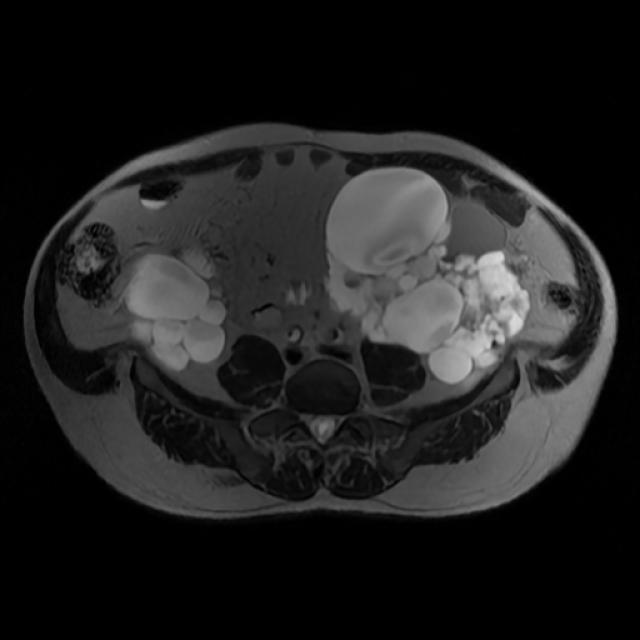sag: (130, 251, 229, 372)
sol: (324, 166, 524, 381)
